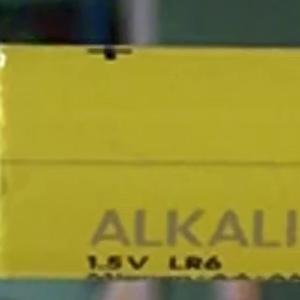keyword: (78, 202, 186, 280)
